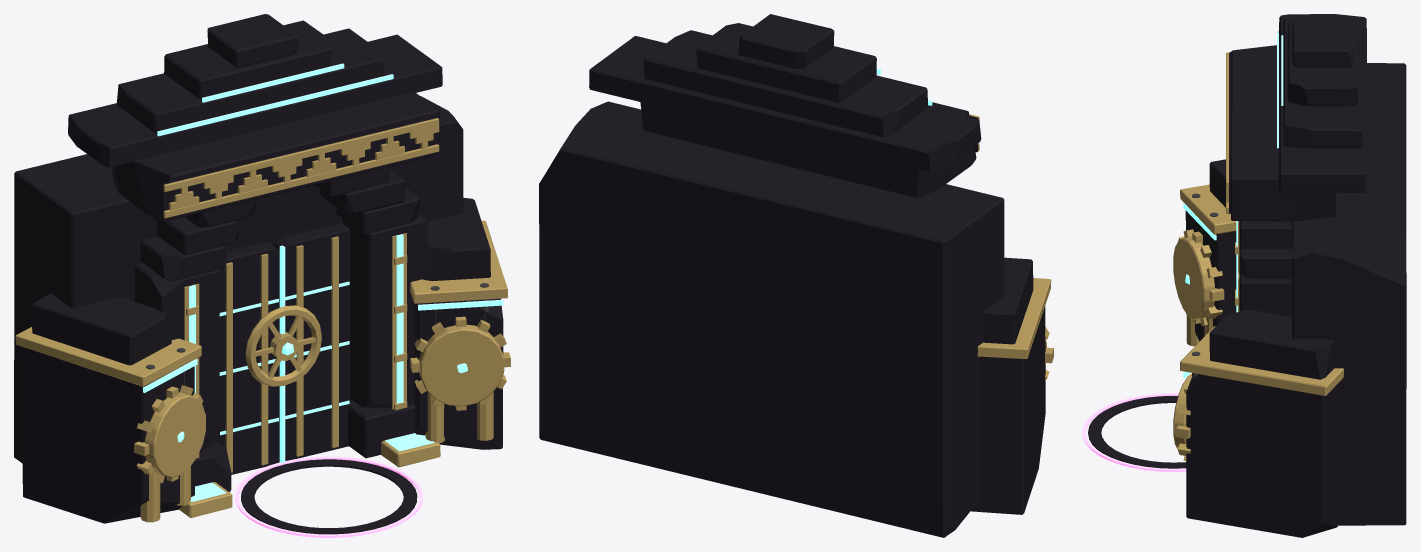
File: zr_gate_obsidian.glb
3 renders of one model, left to right at view 1: azimuth 30°, elevation 25°; view 2: azimuth 150°, elevation 25°; view 3: azimuth 270°, elevation 25°, orthographic. The views are drawn at different scales.
Visible parts, largest first — view 1: zr_gate_obsidian; view 2: zr_gate_obsidian; view 3: zr_gate_obsidian.
Boxes of the visible parts, left/top/right/bottom form: zr_gate_obsidian: left=14, top=14, right=510, bottom=537; zr_gate_obsidian: left=539, top=14, right=1053, bottom=537; zr_gate_obsidian: left=1082, top=14, right=1406, bottom=537.
Size of what is drawn, in the model's own units: 11.99 by 10.01 by 7.39.
